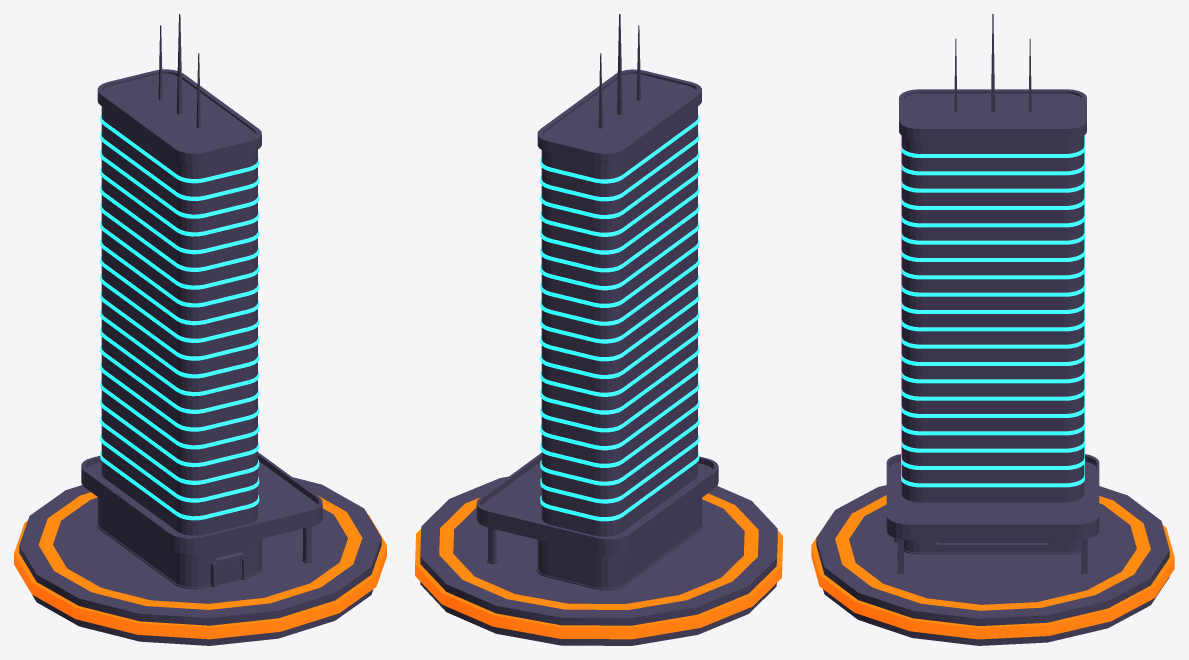
The model's file is House5.fbx.
The picture shows the model from 3 angles, left to right: view 1: azimuth 30°, elevation 25°; view 2: azimuth 150°, elevation 25°; view 3: azimuth 270°, elevation 25°; orthographic projection. The views are drawn at different scales.
Parts seen in each view (by area): view 1: House5; view 2: House5; view 3: House5.
Boxes of the visible parts, left/top/right/bottom form: House5: left=14, top=14, right=386, bottom=645; House5: left=415, top=14, right=782, bottom=645; House5: left=811, top=14, right=1174, bottom=645.
Size of the model in its own units: 3090 by 5264 by 3090.
